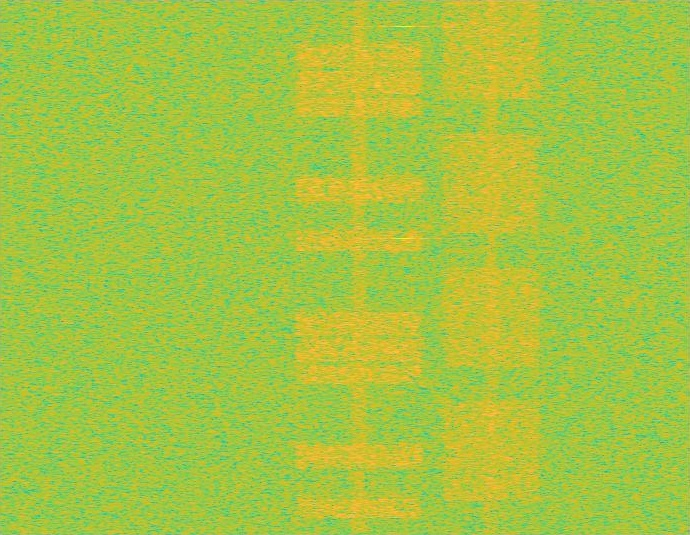5G: (440, 0, 544, 534)
DSSS: (350, 0, 368, 534), (485, 0, 499, 534)
LTE: (290, 0, 428, 534)
Radar: (397, 0, 411, 534)
